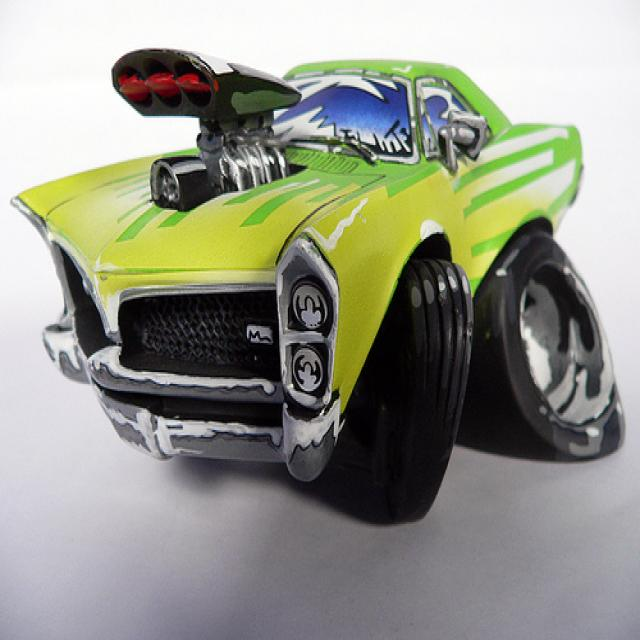Car: (0, 41, 588, 506)
